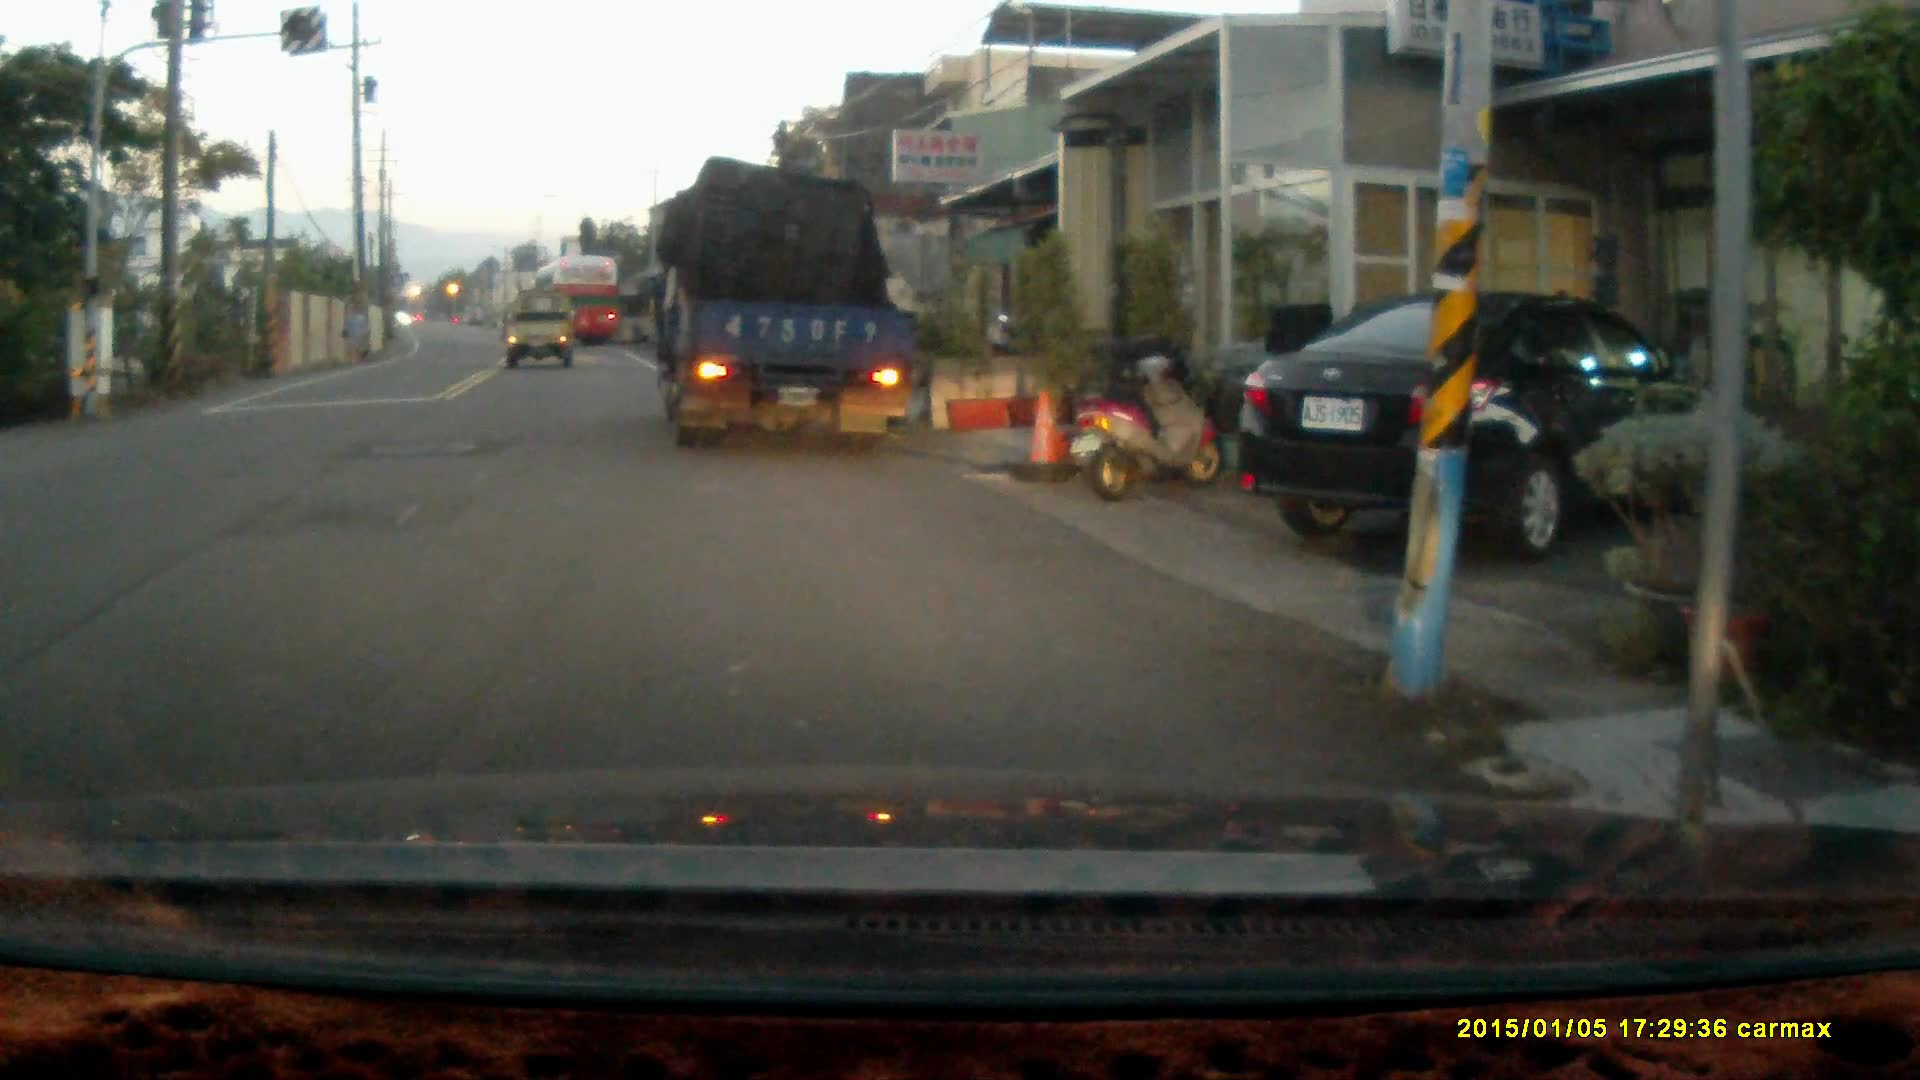vehicle: (1225, 284, 1735, 562), (654, 164, 935, 442), (534, 253, 629, 349), (502, 294, 578, 371)
